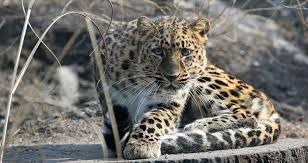amur_leopard: (75, 7, 282, 156)
